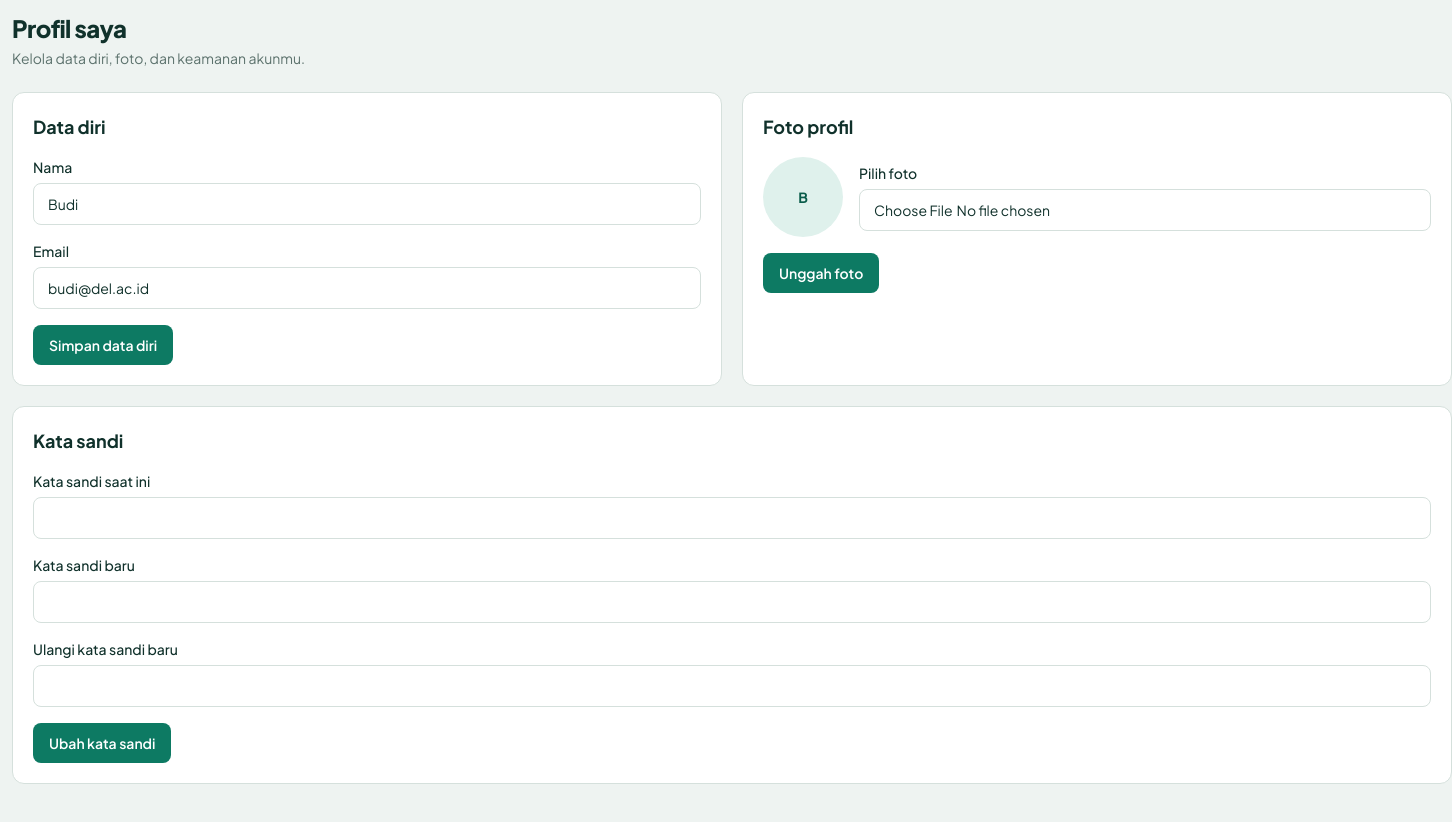
Test: ProfilePage › foto profil › meminta foto dipilih terlebih dahulu
Click the button "Unggah foto" at (821, 273), box x1=763 y1=253 x2=879 y2=293
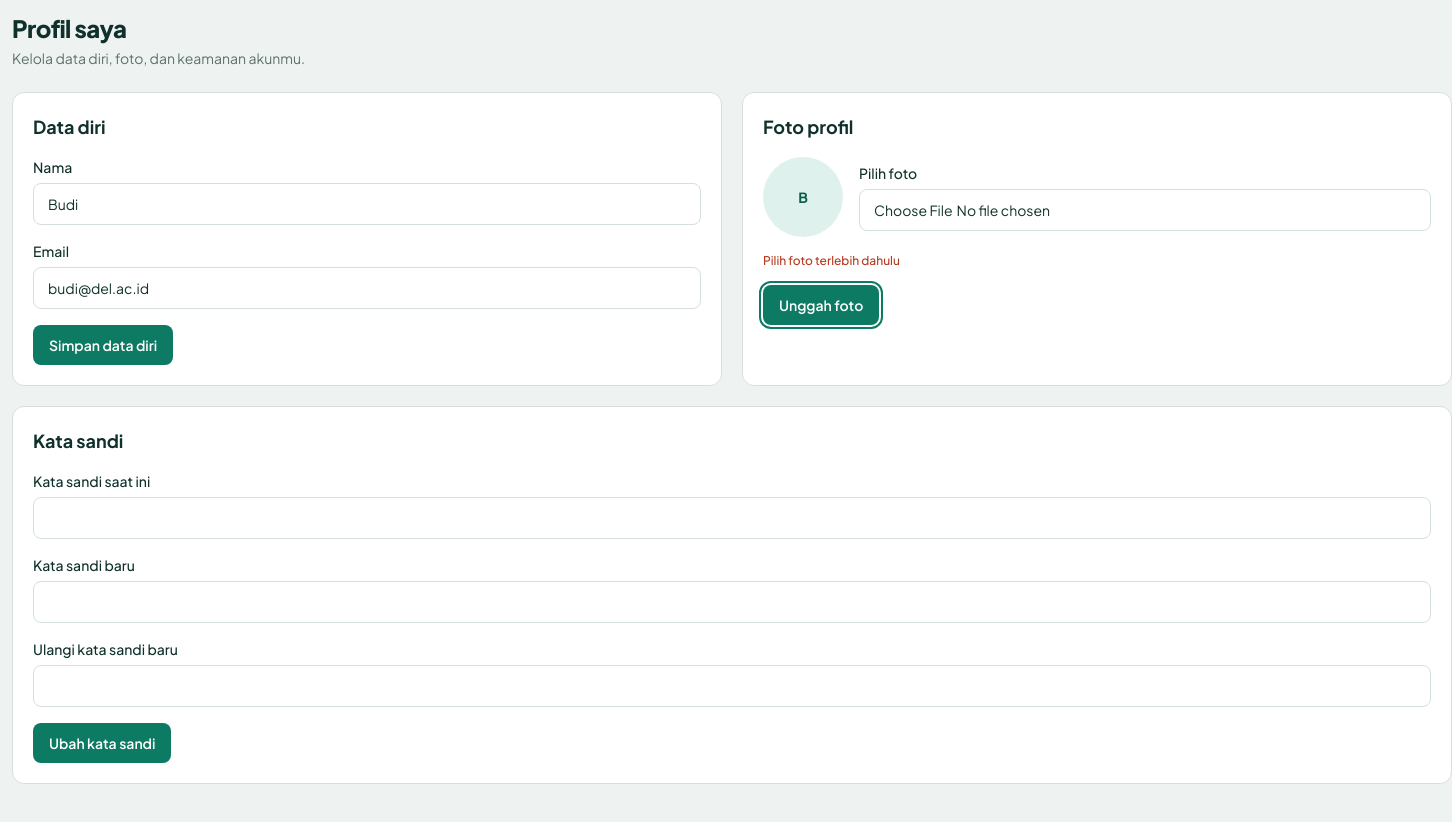
Now the text "Pilih foto terlebih dahulu" is shown, box x1=763 y1=253 x2=900 y2=268
